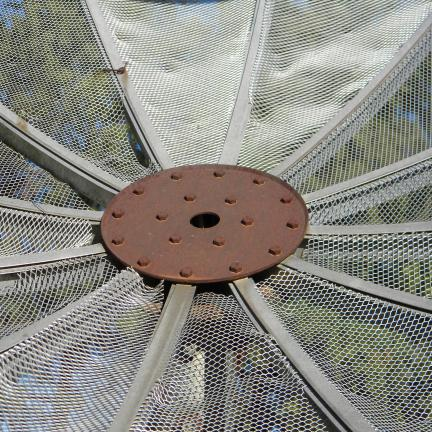karat: (101, 165, 309, 284)
